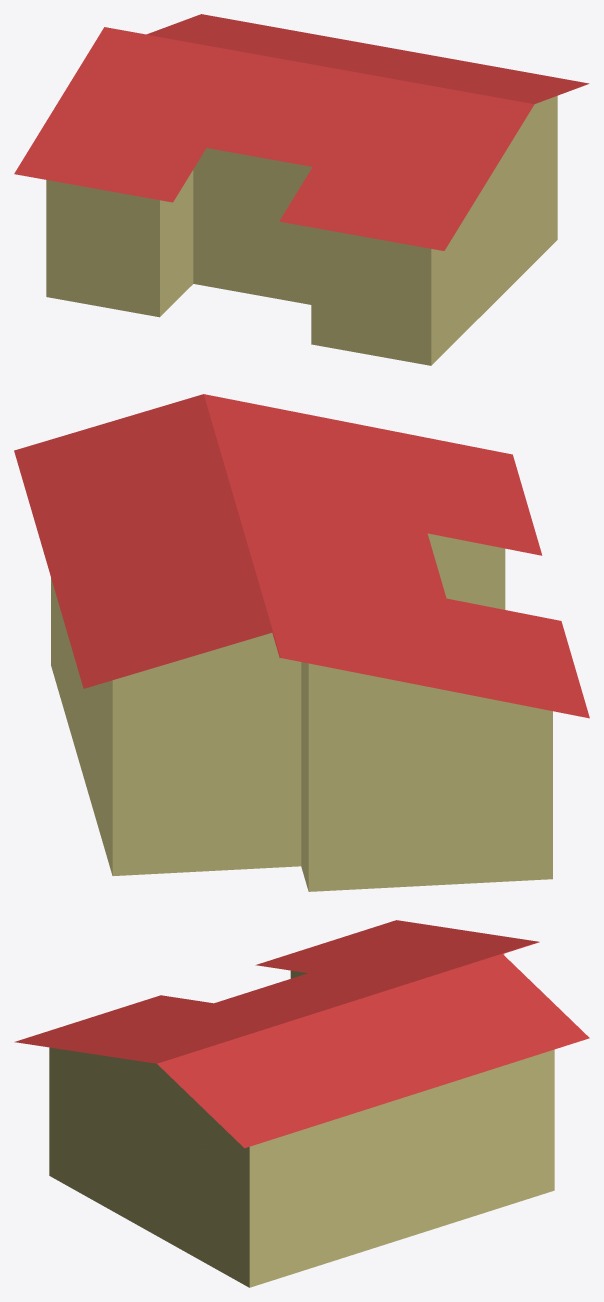
3 views of the same model, one above another, from view 1: azimuth 30°, elevation 25°; view 2: azimuth 150°, elevation 25°; view 3: azimuth 270°, elevation 25° (orthographic). The views are drawn at different scales.
Bounding box in the file's own units: 23.47 × 22.75 × 8.28.
